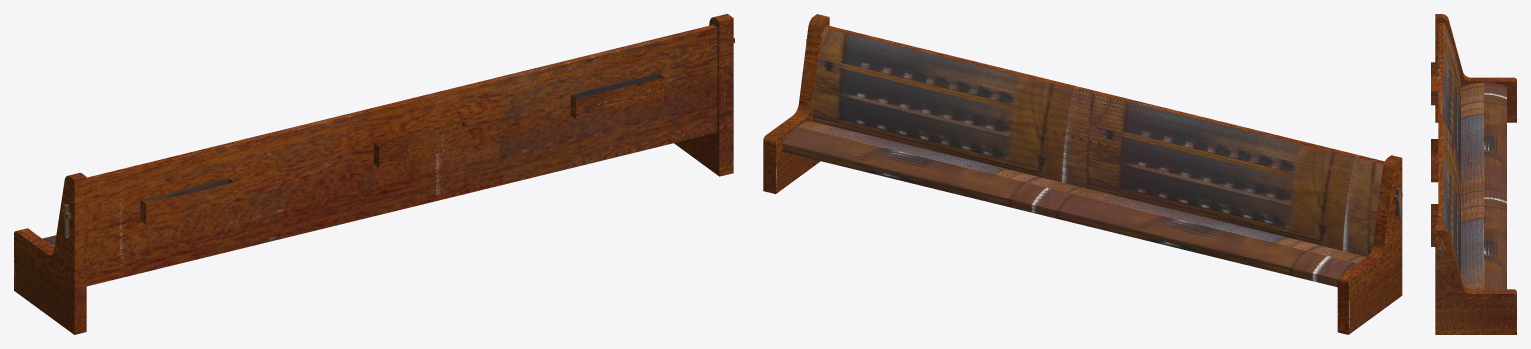
3 views of the same model, side by side, from view 1: azimuth 30°, elevation 25°; view 2: azimuth 150°, elevation 25°; view 3: azimuth 270°, elevation 25° (orthographic). The views are drawn at different scales.
Parts seen in each view (by area): view 1: mesh1_mesh1-geometry; view 2: mesh1_mesh1-geometry; view 3: mesh1_mesh1-geometry, mesh2_mesh2-geometry.
Part boxes in pixels (<box>): mesh1_mesh1-geometry: <box>14,14,733,334</box>; mesh1_mesh1-geometry: <box>763,14,1402,334</box>; mesh1_mesh1-geometry: <box>1431,14,1516,334</box>; mesh2_mesh2-geometry: <box>1438,241,1446,263</box>.
Bounding box in the file's own units: 0.9633 × 0.216 × 0.1596.
